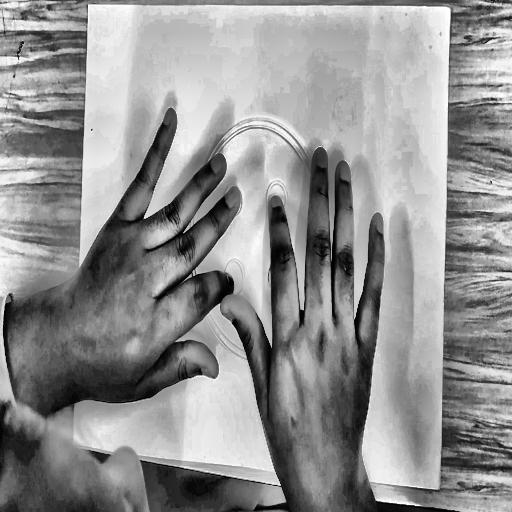bottom_left: (71, 438, 76, 449)
bottom_right: (436, 482, 443, 495)
button: (177, 110, 348, 383)
top_left: (85, 0, 91, 9)
top_right: (447, 3, 454, 16)
